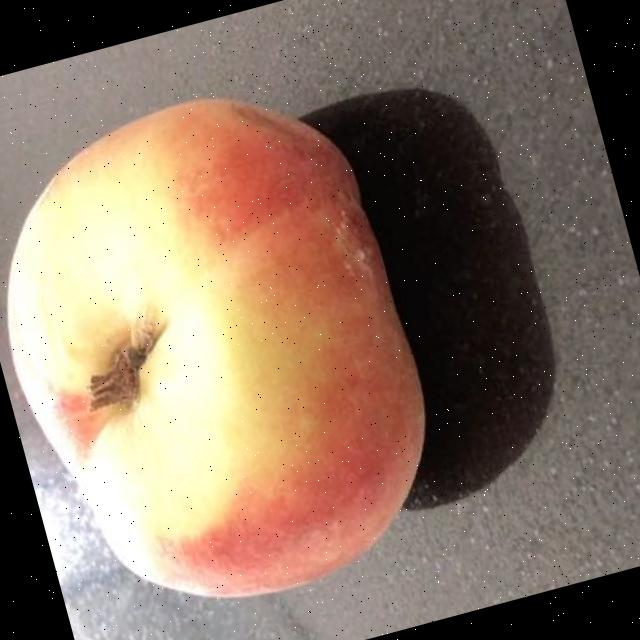peach: (12, 104, 413, 590)
